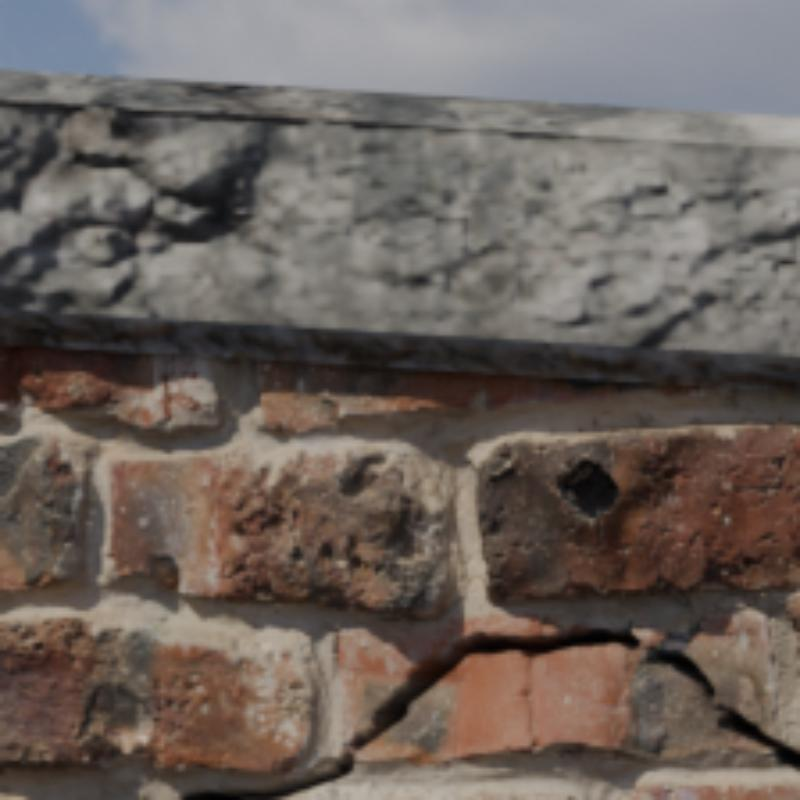pothole: (179, 629, 796, 796)
